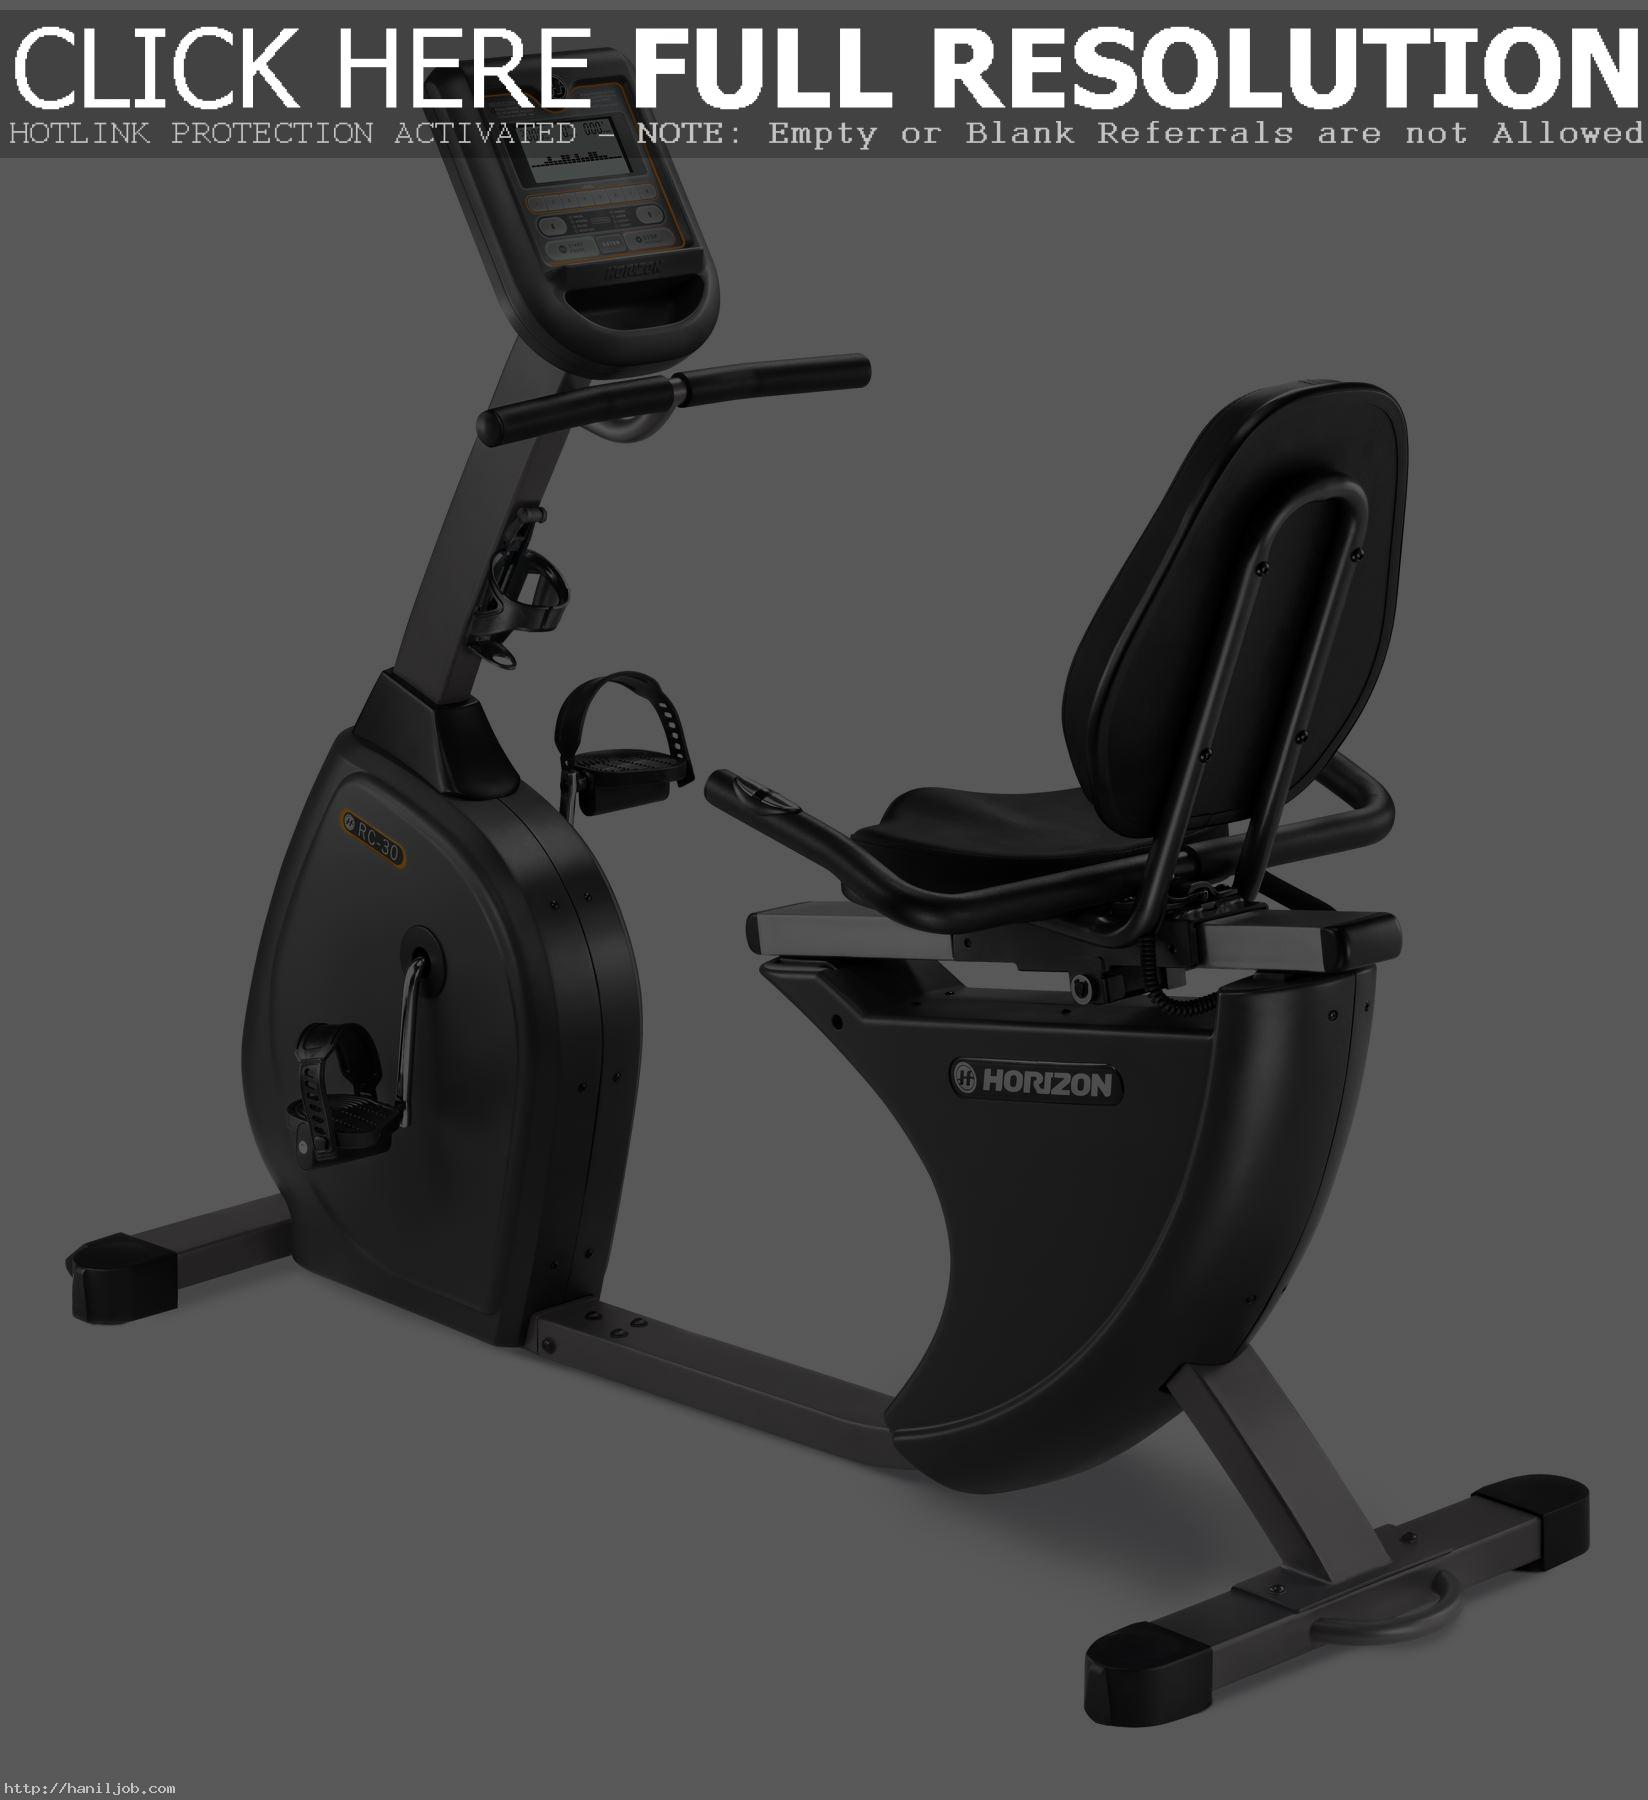gym_bike: (94, 60, 1604, 1737)
